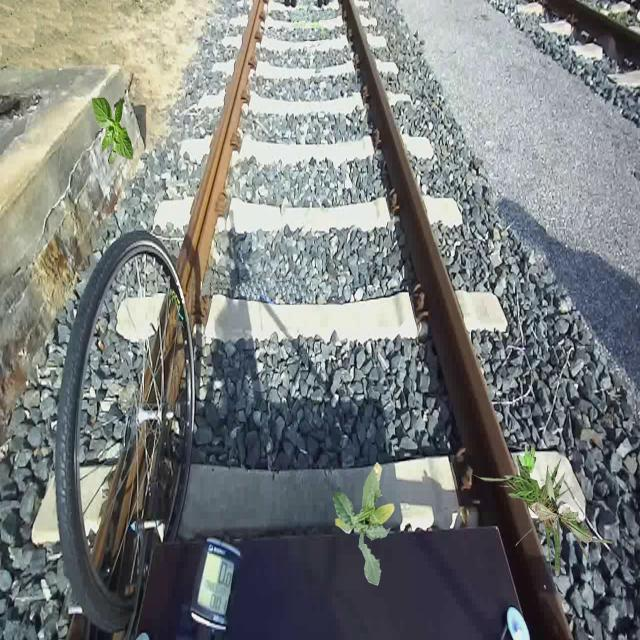Plant: (469, 455, 612, 574), (333, 462, 396, 586), (530, 465, 594, 577), (92, 95, 134, 166), (516, 445, 536, 478)
